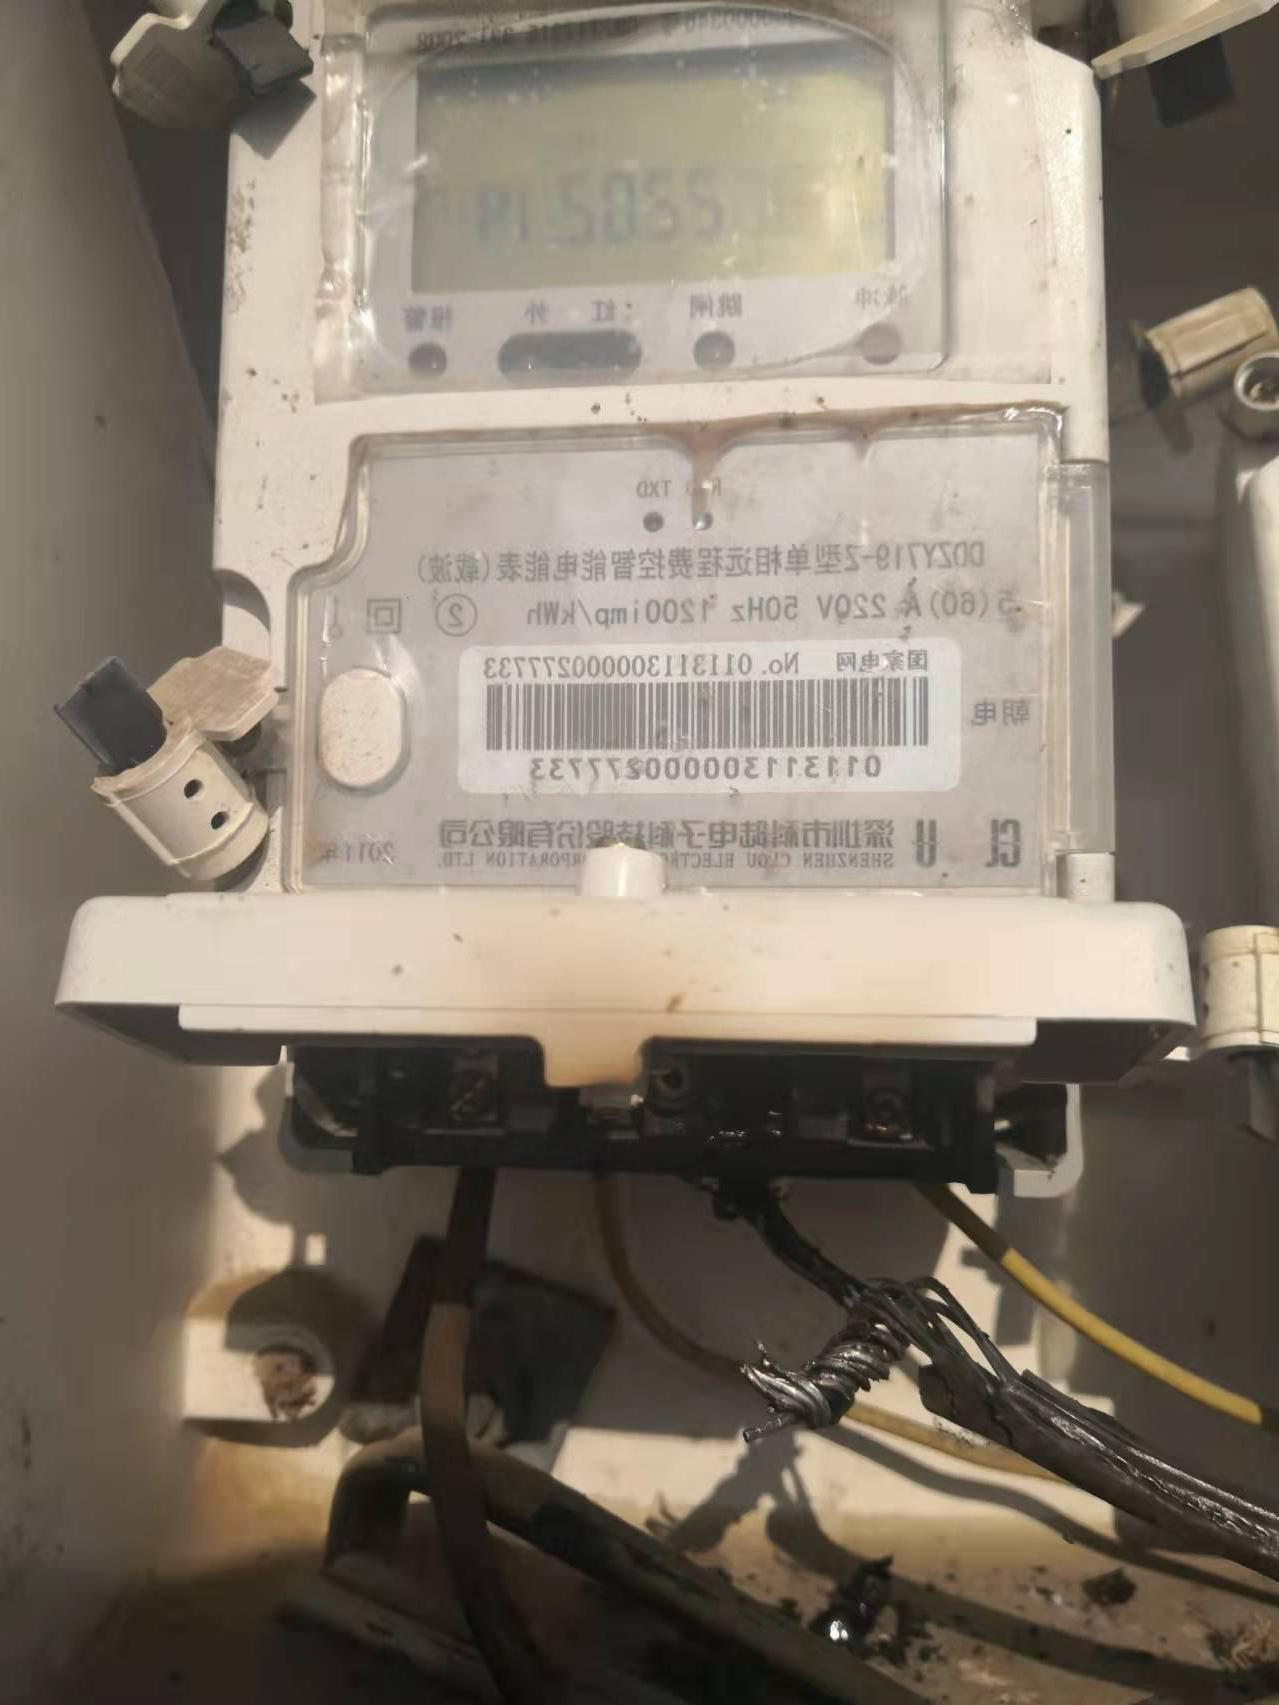digital: (208, 3, 1110, 885)
